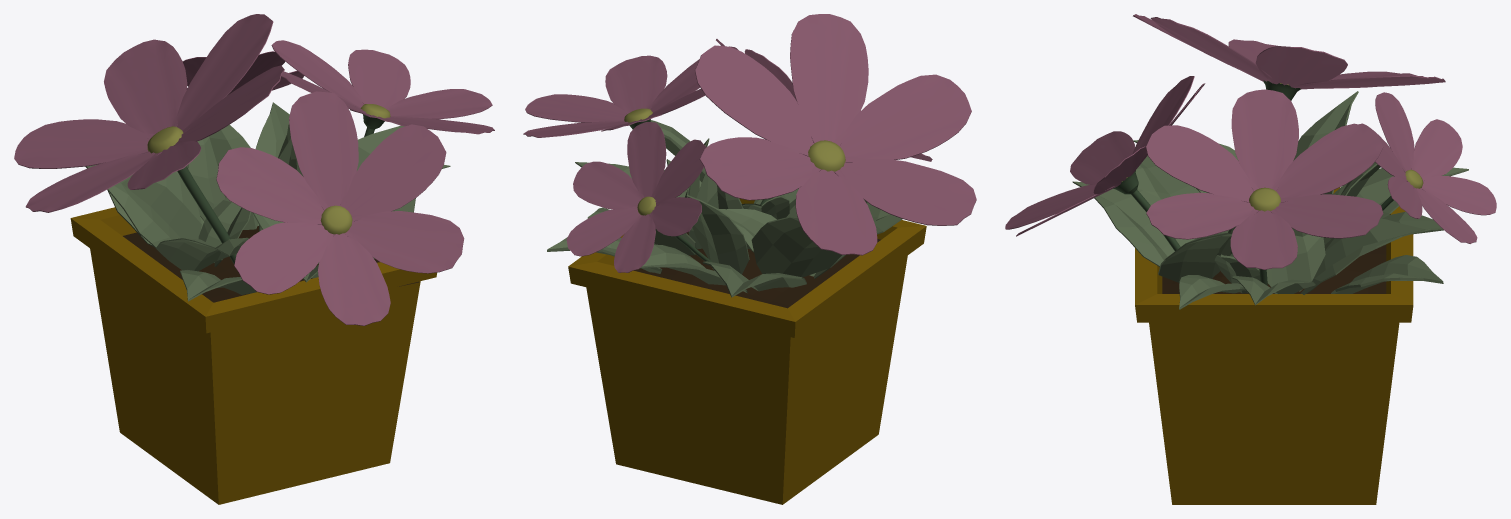
Rendered from PR_Plant_03.fbx.
3 renders of one model, left to right at view 1: azimuth 30°, elevation 25°; view 2: azimuth 150°, elevation 25°; view 3: azimuth 270°, elevation 25°, orthographic. The views are drawn at different scales.
Parts seen in each view (by area): view 1: PR_Pot_Dirt, Petal_05 (×3), PR_Leaves, Petal_06 (×4), Petal_04 (×3), Petal_03 (×3), Petal_01 (×2), Petal_02 (×2), inner___stem (×3); view 2: PR_Pot_Dirt, PR_Leaves, Petal_03 (×3), Petal_02 (×3), Petal_04 (×3), Petal_01 (×2), Petal_05 (×4), Petal_06 (×2), inner___stem; view 3: PR_Pot_Dirt, PR_Leaves, Petal_04 (×4), Petal_01 (×4), Petal_02 (×3), Petal_03 (×3), Petal_05 (×3), Petal_06 (×3), inner___stem (×2).
Boxes of the visible parts, x1,y1,x2,y2 form: PR_Pot_Dirt: [70, 207, 436, 504]; Petal_05 (×3): [104, 39, 410, 210]; PR_Leaves: [85, 102, 450, 301]; Petal_06 (×4): [14, 40, 367, 224]; Petal_04 (×3): [171, 14, 492, 221]; Petal_03 (×3): [173, 65, 494, 273]; Petal_01 (×2): [25, 149, 334, 294]; Petal_02 (×2): [127, 141, 390, 325]; inner___stem (×3): [147, 104, 390, 264]; PR_Pot_Dirt: [568, 198, 926, 504]; PR_Leaves: [547, 120, 902, 297]; Petal_03 (×3): [605, 14, 868, 272]; Petal_02 (×3): [566, 46, 971, 256]; Petal_04 (×3): [525, 45, 819, 236]; Petal_01 (×2): [573, 156, 976, 225]; Petal_05 (×4): [523, 49, 821, 206]; Petal_06 (×2): [627, 122, 877, 255]; inner___stem: [808, 140, 845, 171]; PR_Pot_Dirt: [1135, 187, 1413, 504]; PR_Leaves: [1072, 91, 1468, 309]; Petal_04 (×4): [1093, 46, 1462, 269]; Petal_01 (×4): [1070, 39, 1422, 218]; Petal_02 (×3): [1005, 125, 1477, 243]; Petal_03 (×3): [1146, 17, 1496, 239]; Petal_05 (×3): [1270, 75, 1445, 238]; Petal_06 (×3): [1132, 76, 1407, 202]; inner___stem (×2): [1113, 170, 1280, 285].
Bounding box in the file's own units: 47.63 × 41.81 × 43.32.
